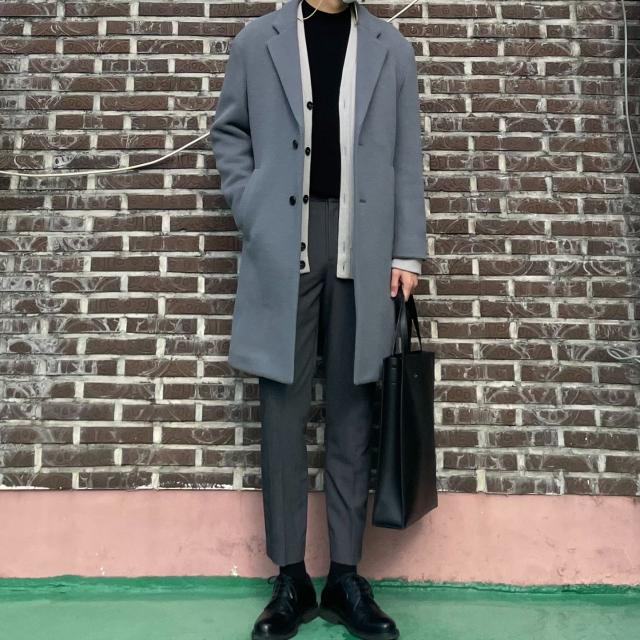coat: (215, 5, 434, 392)
slacks: (258, 193, 374, 572)
